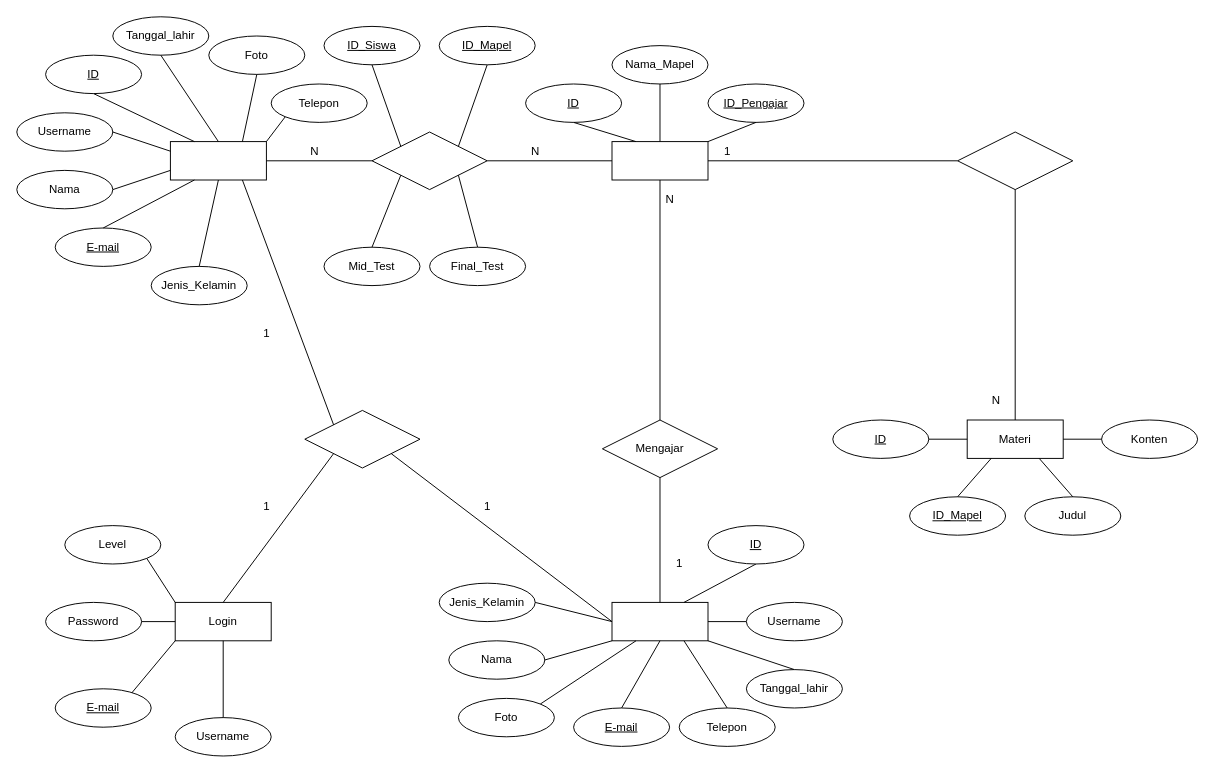
The diagram is 1214 pixels wide and 773 high, and some of its shapes have lost their labels. Each missing label, with the box of its shape:
Belajar: (371, 131, 487, 190)
Mapel: (611, 141, 708, 180)
Memiliki: (957, 131, 1073, 190)
Pengajar: (611, 601, 708, 641)
Sebagai: (304, 409, 420, 468)
Siswa: (169, 141, 266, 180)
